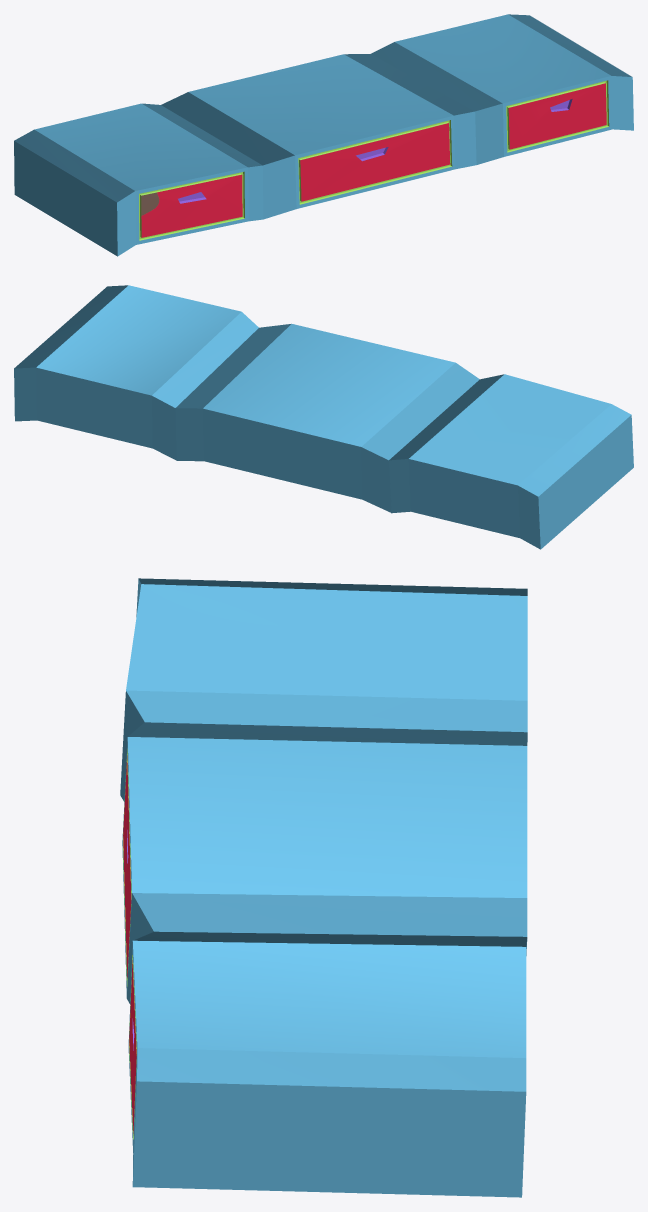
File: Cabinets_T4.fbx
3 views of the same model, one above another, from view 1: azimuth 30°, elevation 25°; view 2: azimuth 150°, elevation 25°; view 3: azimuth 270°, elevation 25° (orthographic). The views are drawn at different scales.
Visible parts, largest first — view 1: T4_Cabinets; view 2: T4_Cabinets; view 3: T4_Cabinets.
Boxes of the visible parts, x1,y1,x2,y2 form: T4_Cabinets: (14, 14, 633, 256); T4_Cabinets: (14, 285, 633, 549); T4_Cabinets: (120, 578, 527, 1197).
Bounding box in the file's own units: 220 × 27.06 × 74.37.
